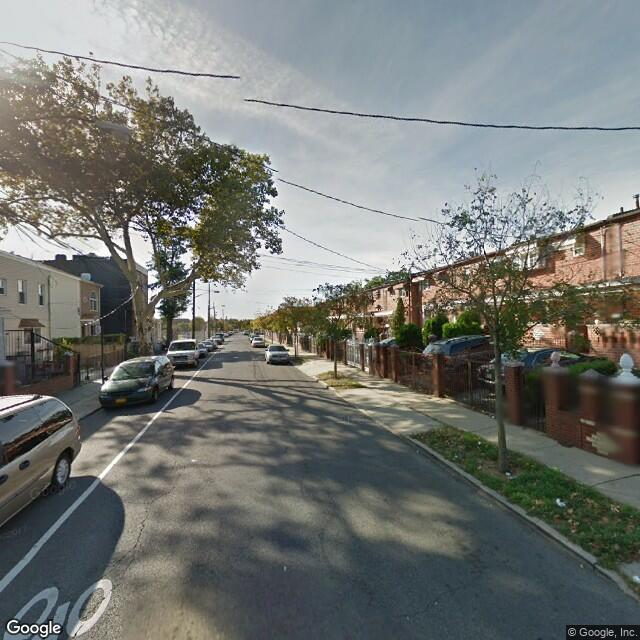litter: (552, 490, 573, 515)
